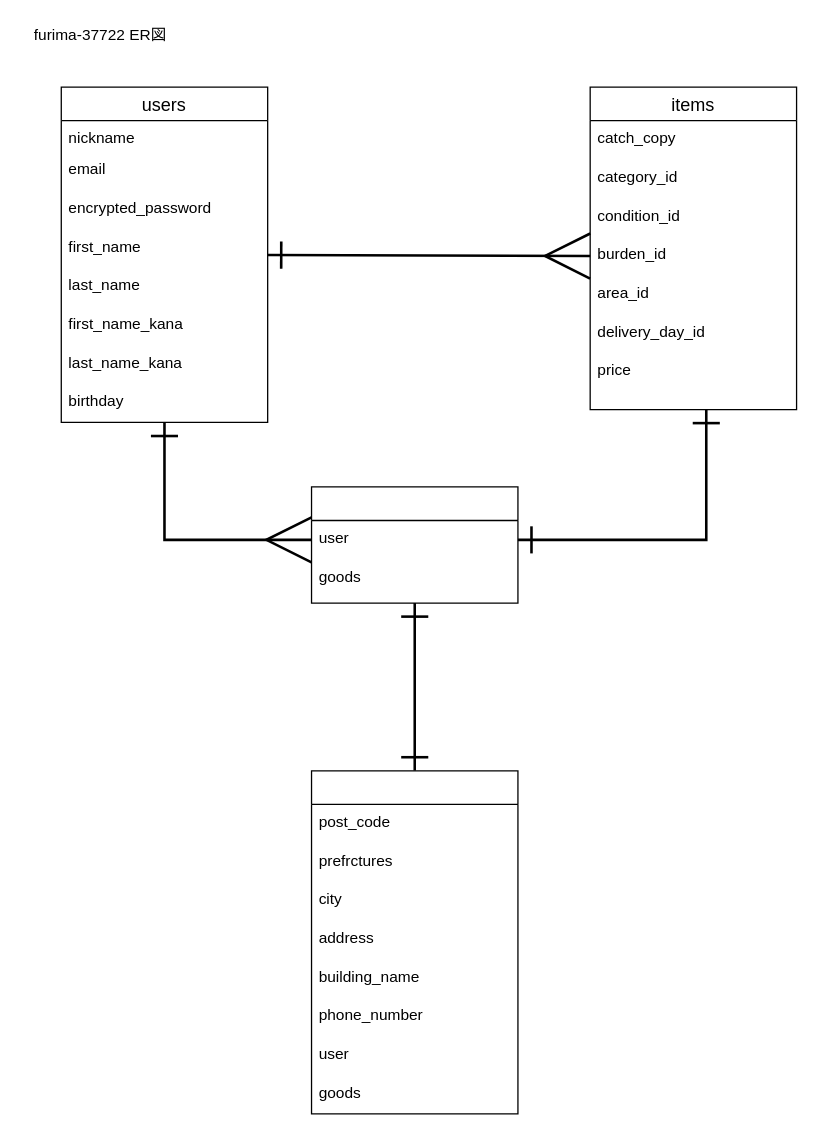
Some shapes in this 819 by 1139 pixel diagram are drawn without their labels. Each missing label, with the box of its shape:
delivery: (310, 769, 518, 1114)
purchases: (310, 486, 518, 603)
